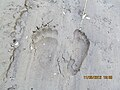human_footprint: (27, 27, 57, 89), (67, 29, 89, 74)
